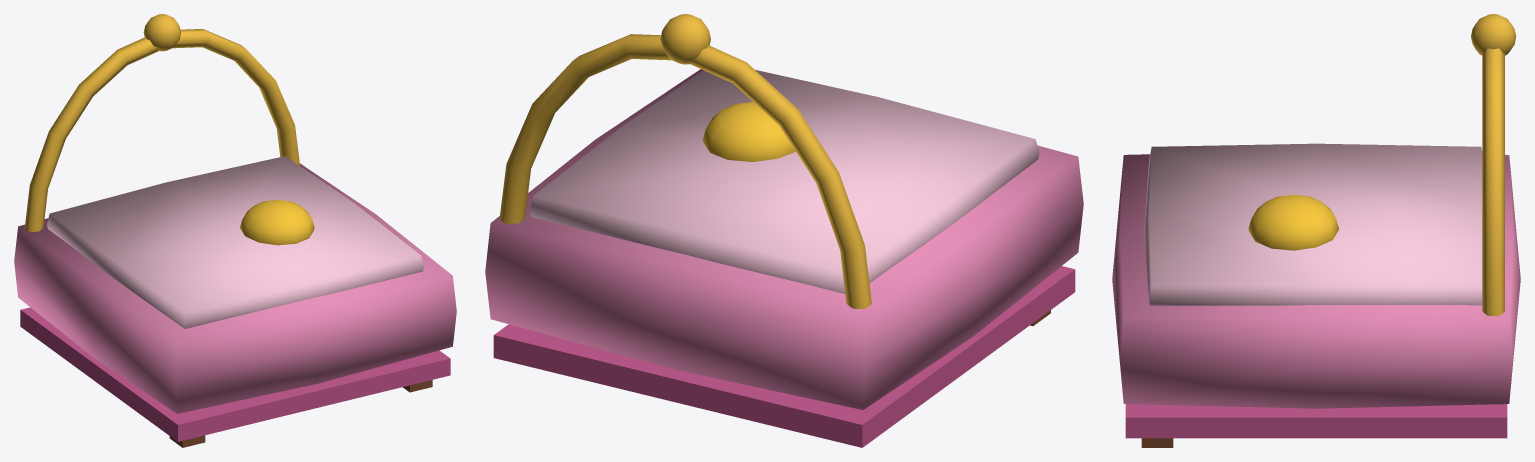
The model's file is cat_basket.glb.
The picture shows the model from 3 angles, left to right: view 1: azimuth 30°, elevation 25°; view 2: azimuth 150°, elevation 25°; view 3: azimuth 270°, elevation 25°; orthographic projection. The views are drawn at different scales.
Parts seen in each view (by area): view 1: root; view 2: root; view 3: root.
Boxes of the visible parts, x1,y1,x2,y2 form: root: (14,14,456,447); root: (485,14,1083,447); root: (1112,14,1520,447).
Size of the model in its own units: 0.9 by 0.87 by 0.9.
